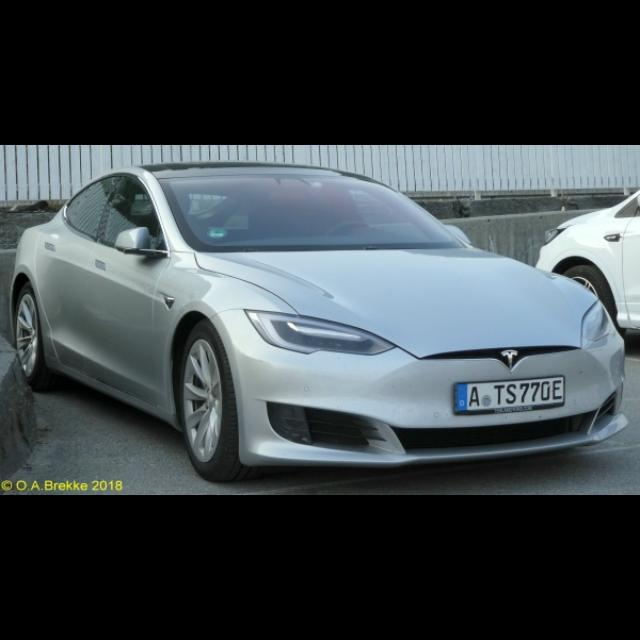license-plates: (456, 377, 566, 414)
